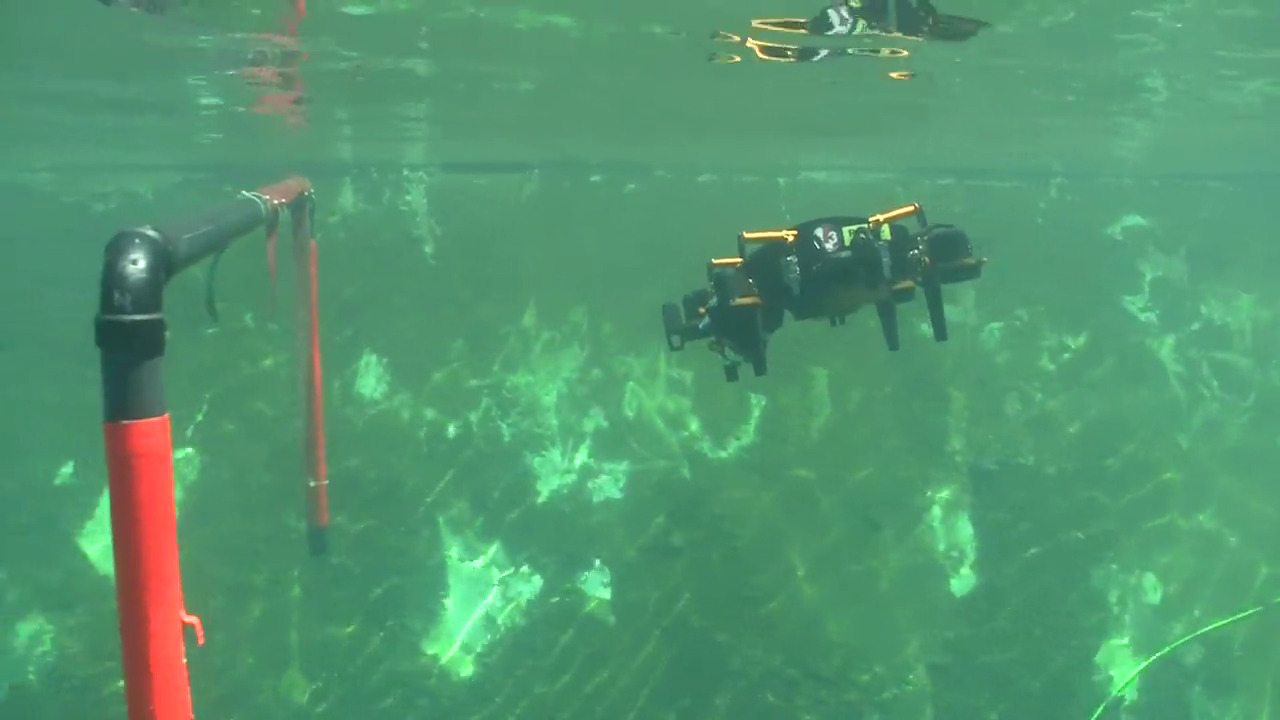gate: (87, 170, 345, 720)
